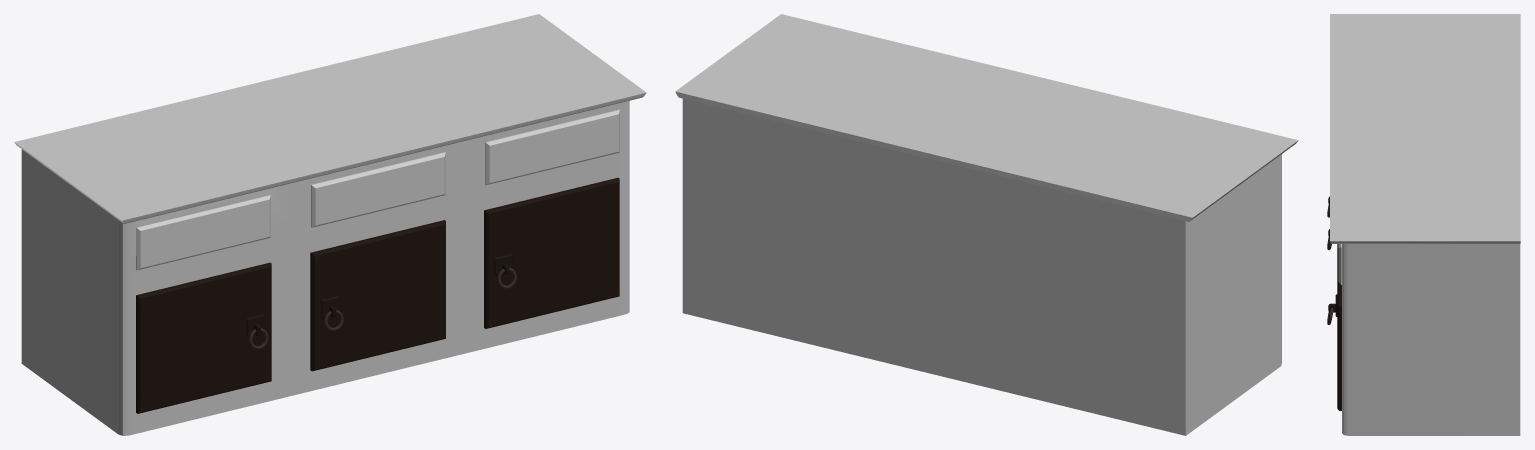
The model's file is Cabinet_80s_v1.fbx.
3 views of the same model, side by side, from view 1: azimuth 30°, elevation 25°; view 2: azimuth 150°, elevation 25°; view 3: azimuth 270°, elevation 25° (orthographic). The views are drawn at different scales.
Parts seen in each view (by area): view 1: polySurface5, polySurface24, polySurface3, M_CabinetDoor_Body_BottomLeft_80s, polySurface1, polySurface25, polySurface26, polySurface27; view 2: polySurface5, polySurface24; view 3: polySurface24, polySurface5, polySurface3.
Part boxes in pixels (x1,y1,x2,y2): polySurface5: (21, 101, 629, 435); polySurface24: (14, 14, 646, 223); polySurface3: (484, 177, 619, 328); M_CabinetDoor_Body_BottomLeft_80s: (136, 262, 271, 413); polySurface1: (310, 220, 445, 371); polySurface25: (485, 109, 619, 185); polySurface26: (311, 152, 445, 227); polySurface27: (136, 195, 270, 270); polySurface5: (682, 98, 1281, 435); polySurface24: (675, 14, 1298, 221); polySurface24: (1330, 14, 1520, 243); polySurface5: (1342, 244, 1520, 435); polySurface3: (1337, 250, 1341, 410).
Bounding box in the file's own units: 18.51 × 7.52 × 6.67.
